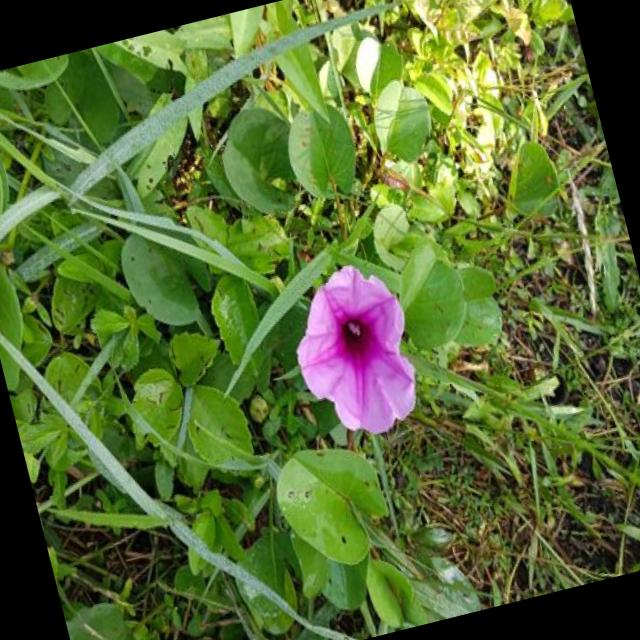ipomoea: (274, 251, 434, 454)
